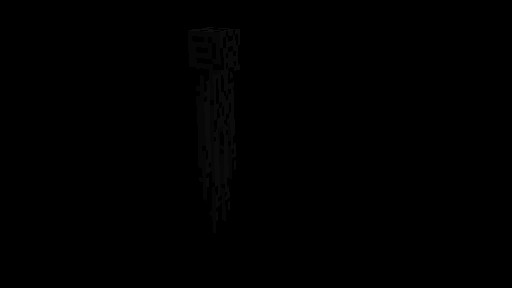enderman: (187, 26, 240, 245)
